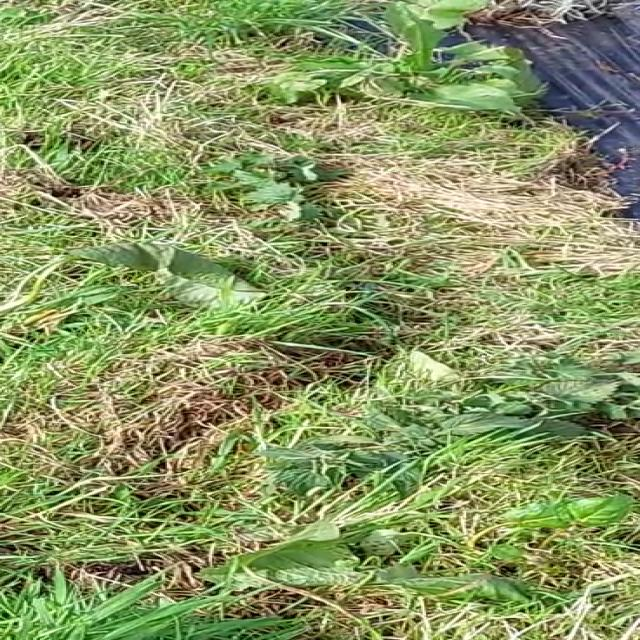organic waste: (181, 496, 640, 613), (243, 0, 582, 129), (35, 220, 341, 336)
